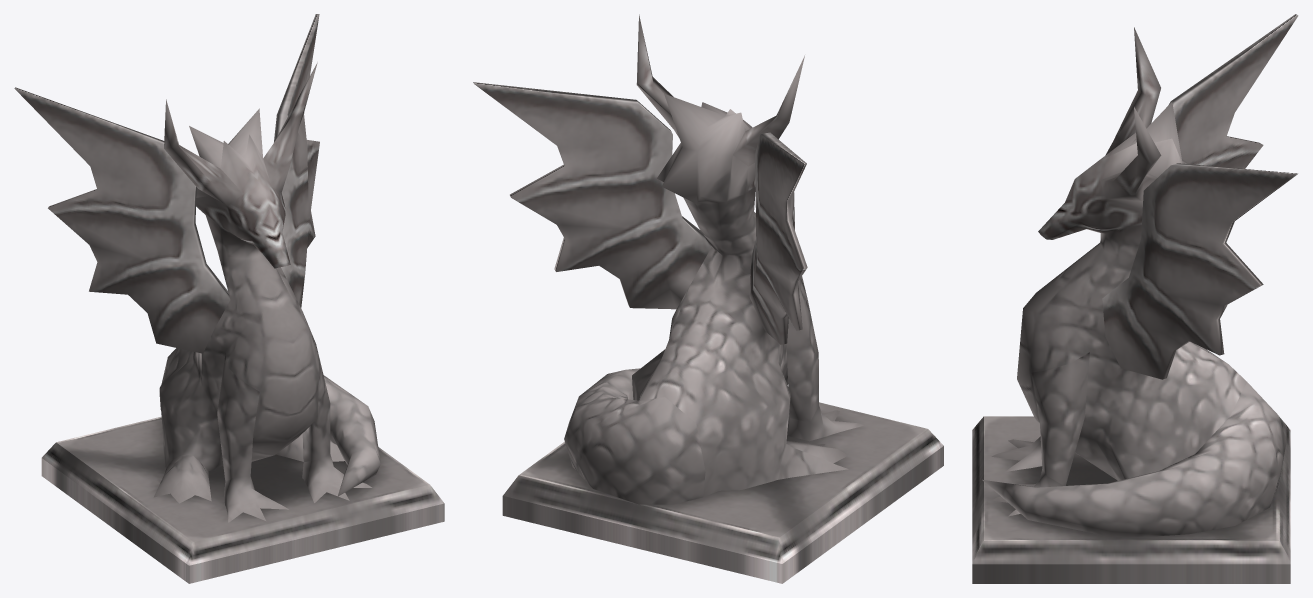
Rendered from DragonStatue_R_HD.fbx.
The picture shows the model from 3 angles, left to right: view 1: azimuth 30°, elevation 25°; view 2: azimuth 150°, elevation 25°; view 3: azimuth 270°, elevation 25°; orthographic projection. The views are drawn at different scales.
Visible parts, largest first — view 1: polySurface9; view 2: polySurface9; view 3: polySurface9.
Part boxes in pixels (box(x1,y1,x2,y2)): polySurface9: box(14, 14, 444, 583); polySurface9: box(473, 14, 943, 583); polySurface9: box(972, 14, 1298, 583).
Size of the model in its own units: 2.39 by 3.13 by 2.05.
